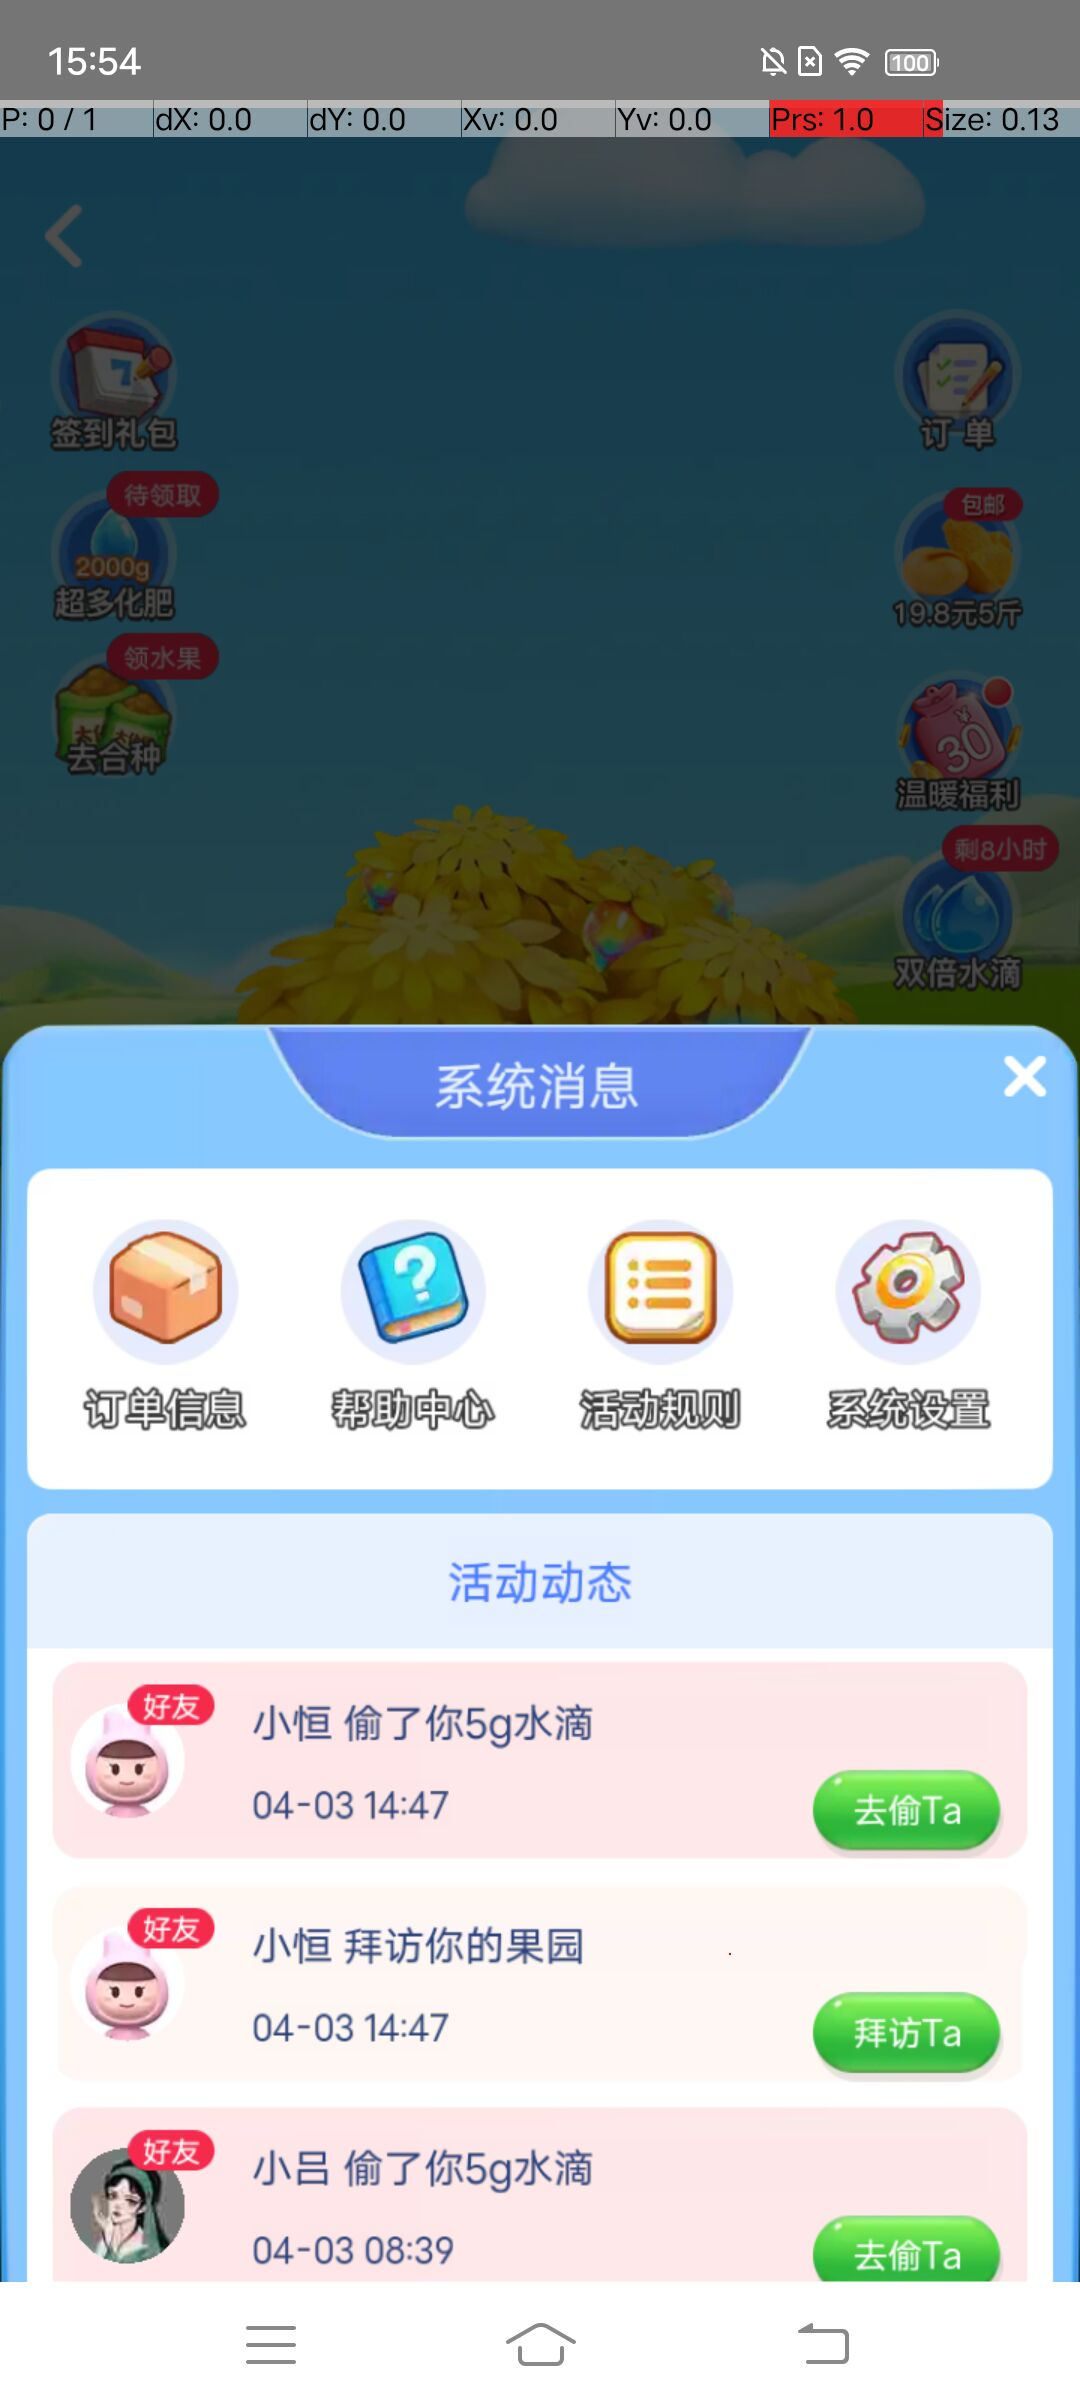popup: (994, 1060, 1054, 1092)
